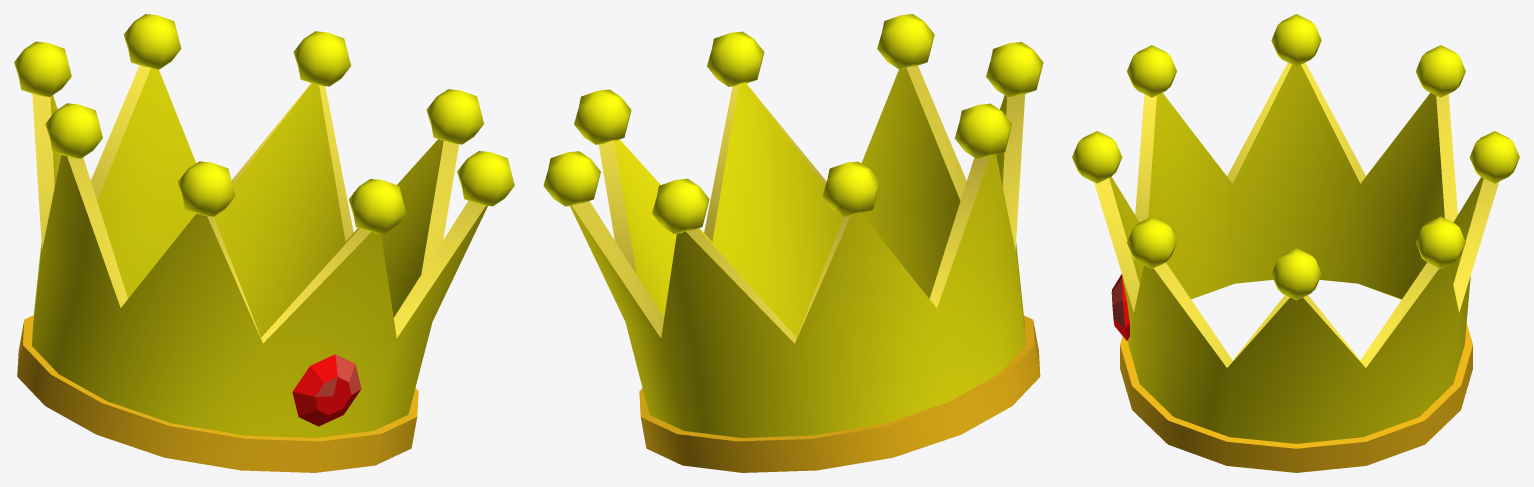
File: vuong mien.fbx
The picture shows the model from 3 angles, left to right: view 1: azimuth 30°, elevation 25°; view 2: azimuth 150°, elevation 25°; view 3: azimuth 270°, elevation 25°; orthographic projection. The views are drawn at different scales.
Parts seen in each view (by area): view 1: vuongmien; view 2: vuongmien; view 3: vuongmien.
Boxes of the visible parts, left/top/right/bottom form: vuongmien: left=14, top=14, right=514, bottom=472; vuongmien: left=543, top=14, right=1043, bottom=472; vuongmien: left=1072, top=14, right=1519, bottom=472.
Bounding box in the file's own units: 86.09 × 68.9 × 87.11.
